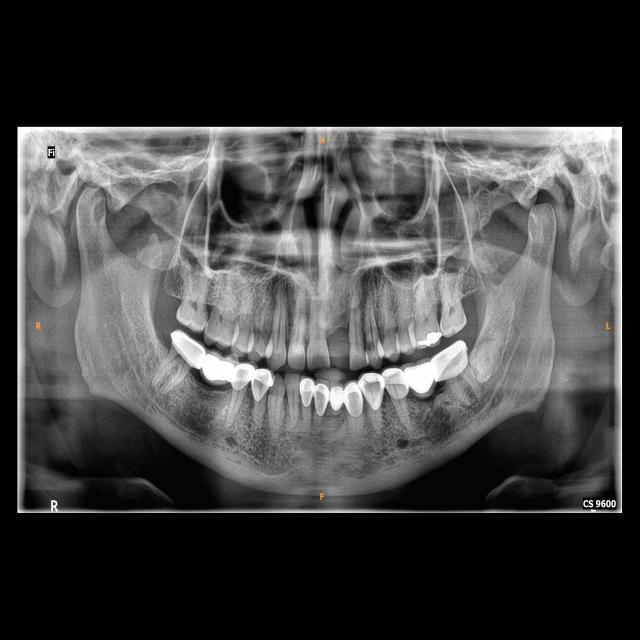kanal-tedavisi: (417, 329, 445, 350)
kaplama: (427, 335, 475, 388), (162, 323, 211, 373), (242, 364, 281, 407), (381, 362, 413, 404), (225, 357, 259, 394), (362, 368, 386, 411), (345, 379, 363, 423), (315, 378, 329, 420), (330, 381, 344, 417), (297, 376, 313, 406)
kopru: (392, 349, 463, 409), (184, 339, 250, 397)
